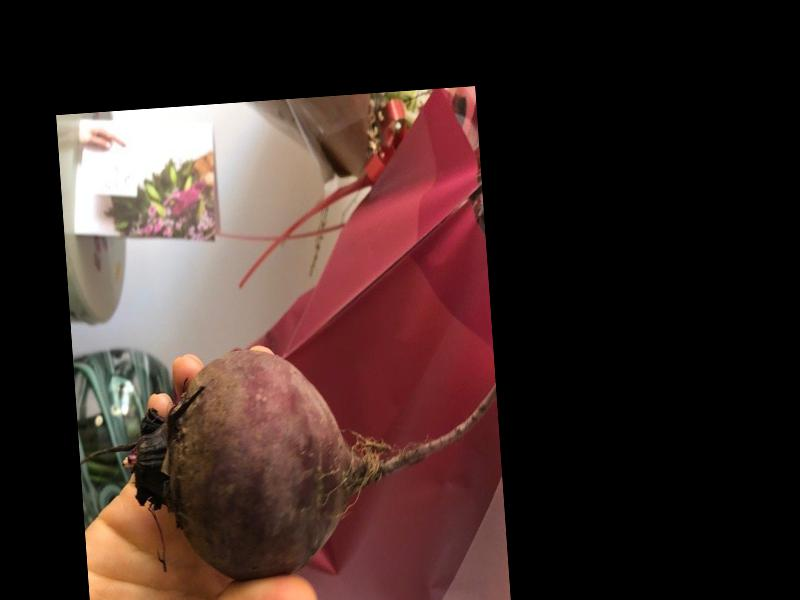Beet: (76, 332, 506, 591)
